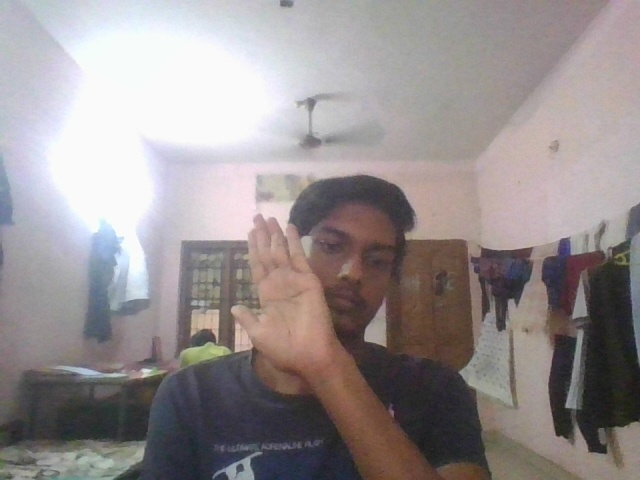hello: (226, 208, 334, 381)
